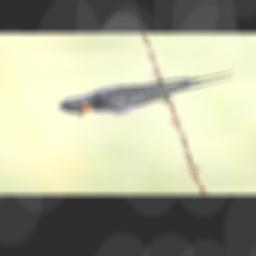Swallow: (44, 71, 251, 119)
